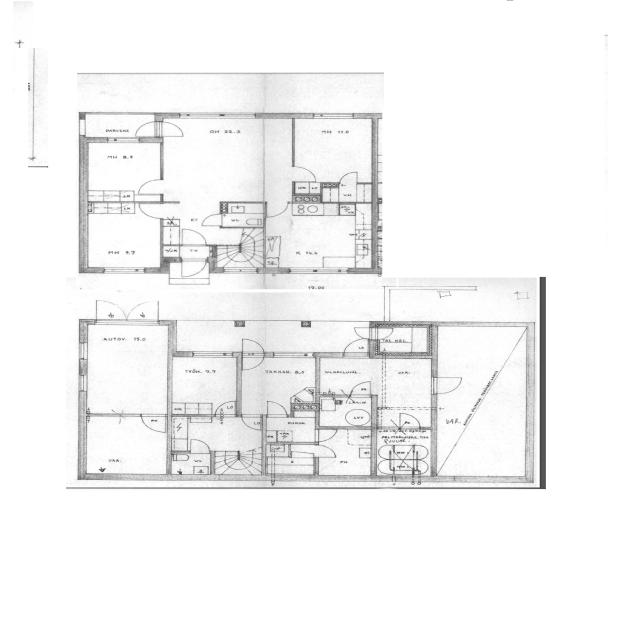door: (240, 338, 266, 370), (94, 300, 128, 322), (125, 301, 158, 323), (430, 374, 464, 394), (178, 258, 208, 278), (138, 414, 168, 434), (180, 227, 208, 247), (135, 177, 165, 195), (136, 202, 166, 220), (133, 119, 160, 138), (254, 406, 283, 423), (158, 120, 185, 138), (290, 165, 318, 182), (341, 338, 368, 355), (348, 380, 373, 398), (264, 400, 288, 418), (365, 325, 393, 340), (198, 212, 224, 228), (264, 202, 290, 218), (215, 399, 238, 417), (239, 414, 263, 431), (397, 412, 421, 429), (313, 428, 338, 442), (187, 438, 210, 453), (337, 170, 360, 185), (314, 444, 338, 458), (351, 326, 374, 339)
window: (179, 110, 259, 119), (99, 266, 147, 275), (284, 267, 336, 275), (74, 368, 89, 394), (308, 112, 355, 119), (268, 351, 314, 358), (75, 340, 89, 362), (188, 351, 231, 358), (313, 267, 350, 275), (105, 137, 140, 144), (76, 118, 87, 136), (315, 351, 344, 357)
zone: (162, 116, 294, 200), (81, 321, 170, 416), (264, 204, 371, 271), (292, 116, 374, 183), (81, 415, 168, 478), (84, 204, 162, 271), (83, 140, 161, 202), (239, 355, 316, 415), (372, 356, 433, 430), (170, 356, 238, 416), (314, 428, 373, 477), (373, 428, 432, 477), (317, 355, 373, 396), (371, 325, 432, 357), (316, 395, 374, 427), (265, 442, 316, 477), (262, 414, 318, 444), (221, 202, 265, 228), (167, 452, 212, 476), (320, 183, 372, 203)
